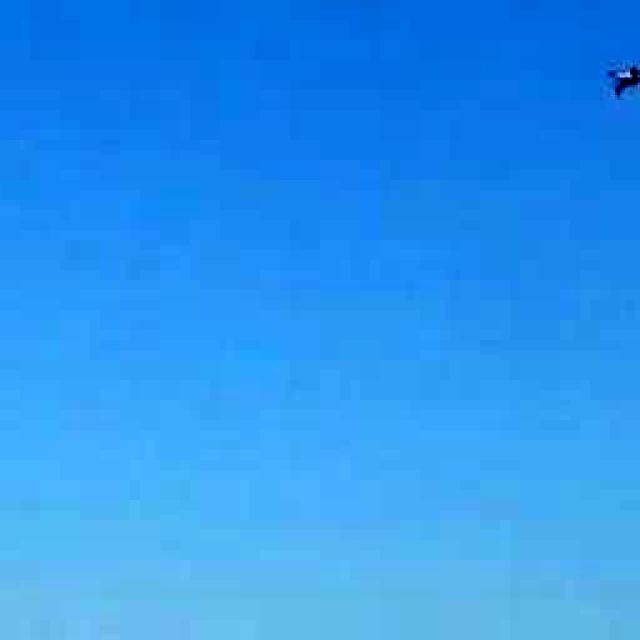bird: (571, 20, 640, 118)
